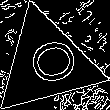O_W: (16, 36, 77, 91)
